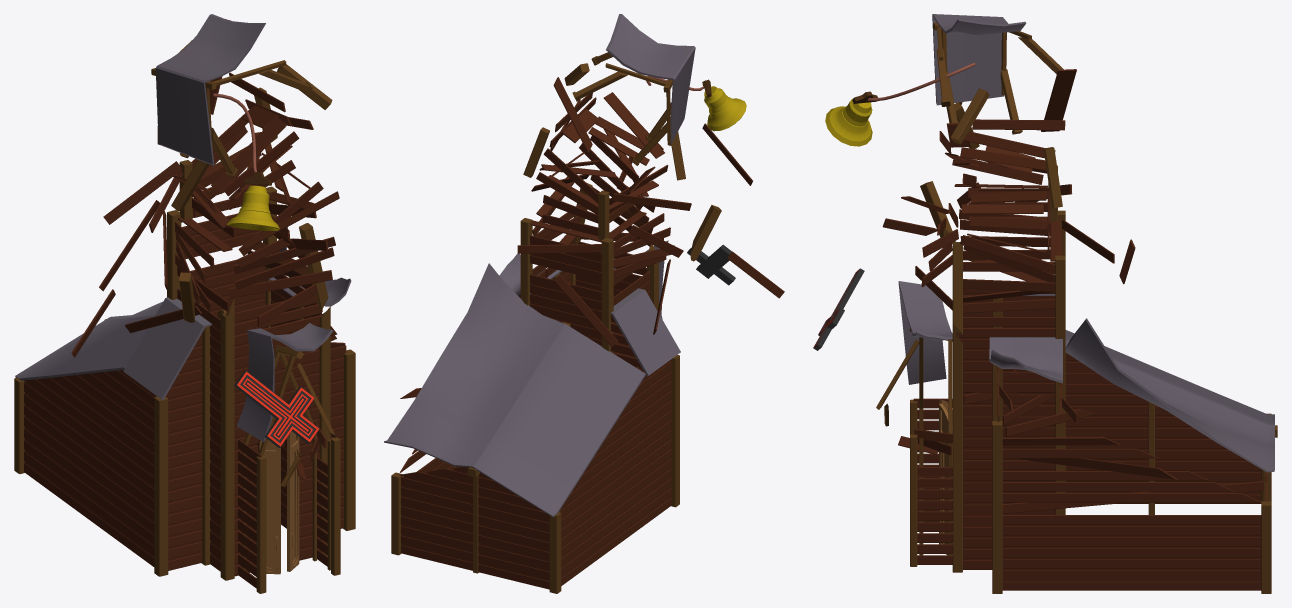
The model's file is Church-M00A.fbx.
3 renders of one model, left to right at view 1: azimuth 30°, elevation 25°; view 2: azimuth 150°, elevation 25°; view 3: azimuth 270°, elevation 25°, orthographic. The views are drawn at different scales.
Parts seen in each view (by area): view 1: Church-M00A, Debris-M01A, Debris-M00A, Debris-M02A, Debirs-M03A, Cross-M00B, Bell-M00A; view 2: Church-M00A, Debris-M01A, Debris-M02A, Debris-M00A, Debirs-M03A, Bell-M00A, Cross-M00B; view 3: Church-M00A, Debris-M01A, Debris-M00A, Debris-M02A, Debirs-M03A, Bell-M00A, Cross-M00B.
Part boxes in pixels (x1,y1,x2,y2): Church-M00A: (14,160,355,593); Debris-M01A: (71,14,336,461); Debris-M00A: (99,19,332,486); Debris-M02A: (103,72,345,448); Debirs-M03A: (198,132,339,298); Cross-M00B: (234,371,319,447); Bell-M00A: (213,93,279,230); Church-M00A: (384,180,680,593); Debris-M01A: (523,14,784,298); Debris-M02A: (452,93,752,469); Debris-M00A: (536,63,721,346); Debirs-M03A: (400,129,650,398); Bell-M00A: (646,76,746,131); Cross-M00B: (687,244,735,285); Church-M00A: (909,165,1277,593); Debris-M01A: (876,14,1063,455); Debris-M00A: (884,69,1135,454); Debris-M02A: (882,102,1263,513); Debirs-M03A: (901,187,1177,479); Bell-M00A: (825,63,975,146); Cross-M00B: (813,268,864,350).
Bounding box in the file's own units: 1394 × 2131 × 1713.
